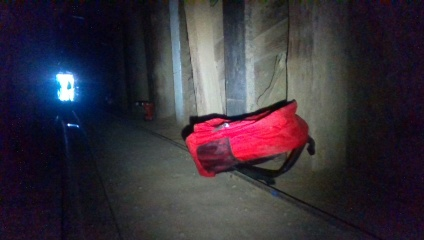backpack: (183, 96, 309, 176)
drill: (131, 98, 156, 125)
